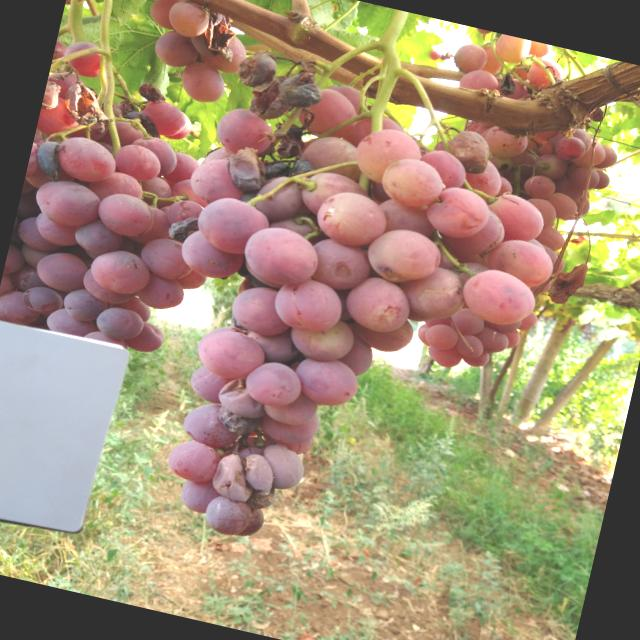grapes: (240, 222, 324, 292), (362, 222, 445, 290), (192, 192, 272, 260), (457, 264, 539, 330), (394, 258, 471, 324), (350, 123, 424, 191), (340, 272, 416, 338), (312, 186, 389, 251), (270, 273, 346, 338), (304, 234, 376, 296), (194, 324, 268, 384), (482, 234, 558, 292), (290, 352, 362, 412), (440, 201, 509, 263), (480, 189, 548, 251), (286, 310, 358, 368), (423, 182, 492, 242), (32, 175, 104, 232), (297, 168, 370, 224), (378, 153, 446, 212), (227, 281, 296, 339), (176, 228, 247, 284), (298, 130, 367, 186), (296, 84, 360, 144), (86, 244, 154, 300), (185, 153, 249, 212), (52, 132, 120, 187), (214, 104, 278, 161), (241, 357, 306, 412), (345, 308, 416, 358), (180, 398, 244, 451), (93, 189, 158, 241), (342, 108, 408, 158), (136, 233, 198, 284), (372, 195, 438, 241), (252, 170, 306, 226), (32, 247, 92, 296), (258, 403, 322, 448), (255, 441, 309, 494), (165, 436, 222, 486), (260, 385, 320, 430), (84, 167, 146, 210), (78, 266, 140, 308), (197, 28, 250, 76), (176, 58, 229, 106), (415, 146, 469, 193), (456, 154, 506, 204), (126, 133, 180, 179), (201, 494, 254, 540), (242, 324, 300, 366), (35, 92, 84, 141), (135, 96, 189, 140), (70, 214, 124, 258), (110, 141, 163, 185), (92, 303, 146, 344), (126, 202, 174, 248), (152, 27, 202, 71), (136, 272, 187, 314), (334, 329, 377, 378), (60, 284, 110, 326), (14, 214, 66, 252), (165, 0, 213, 41), (44, 304, 96, 340), (269, 212, 323, 246), (482, 124, 530, 162), (186, 362, 228, 404), (177, 478, 223, 516), (18, 282, 66, 318), (0, 287, 42, 327), (122, 318, 166, 356), (198, 321, 243, 358), (160, 149, 202, 188), (62, 37, 105, 74), (164, 196, 204, 234), (324, 81, 367, 115), (525, 56, 565, 92), (44, 68, 84, 103), (64, 114, 109, 145), (451, 40, 488, 77), (105, 118, 145, 152), (169, 175, 210, 208), (136, 173, 173, 209), (109, 292, 153, 322), (451, 258, 492, 290), (572, 136, 608, 172), (448, 304, 486, 338), (270, 429, 314, 458), (492, 33, 530, 66), (472, 324, 511, 356), (146, 0, 186, 31), (11, 264, 48, 296), (422, 321, 460, 352), (458, 66, 500, 94), (161, 108, 194, 143), (544, 190, 580, 222), (522, 196, 558, 228), (234, 505, 266, 541), (531, 152, 569, 182), (474, 42, 506, 76), (531, 223, 567, 253), (200, 142, 236, 172), (522, 172, 557, 202), (482, 311, 522, 337), (2, 242, 29, 280), (554, 133, 588, 163), (18, 244, 56, 270), (83, 328, 131, 348), (187, 32, 222, 59), (454, 332, 486, 360), (568, 165, 601, 192), (552, 176, 584, 203), (176, 267, 208, 294), (498, 75, 530, 101), (592, 143, 620, 172), (430, 246, 461, 272), (566, 126, 594, 154), (433, 344, 463, 370), (460, 346, 490, 370), (50, 38, 68, 70), (23, 169, 51, 189), (422, 312, 450, 332), (238, 276, 262, 298), (526, 40, 552, 60), (0, 274, 17, 304), (414, 322, 434, 347), (501, 328, 522, 351), (518, 310, 538, 334), (509, 62, 531, 82), (496, 175, 514, 199), (592, 170, 612, 191), (243, 434, 268, 450), (573, 196, 591, 217), (406, 310, 432, 324), (537, 140, 556, 157), (20, 179, 34, 199), (473, 121, 491, 136), (481, 123, 494, 141), (465, 119, 481, 133), (425, 345, 437, 359), (428, 49, 440, 61), (474, 28, 490, 34)
